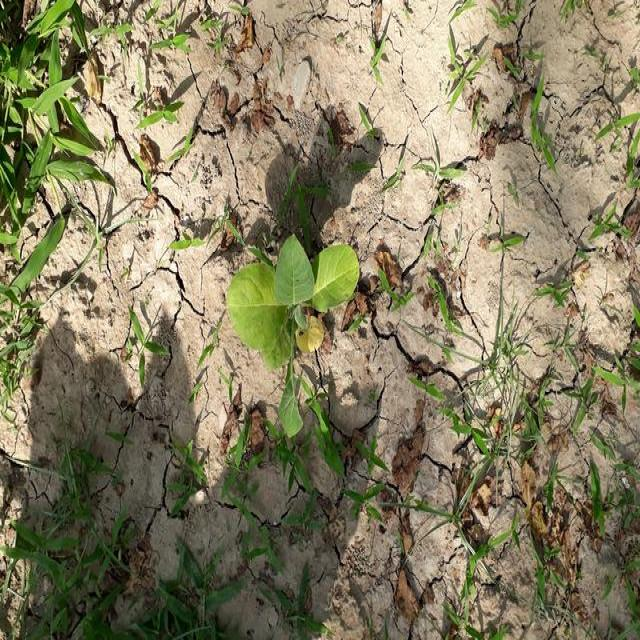crop: (228, 236, 367, 437)
